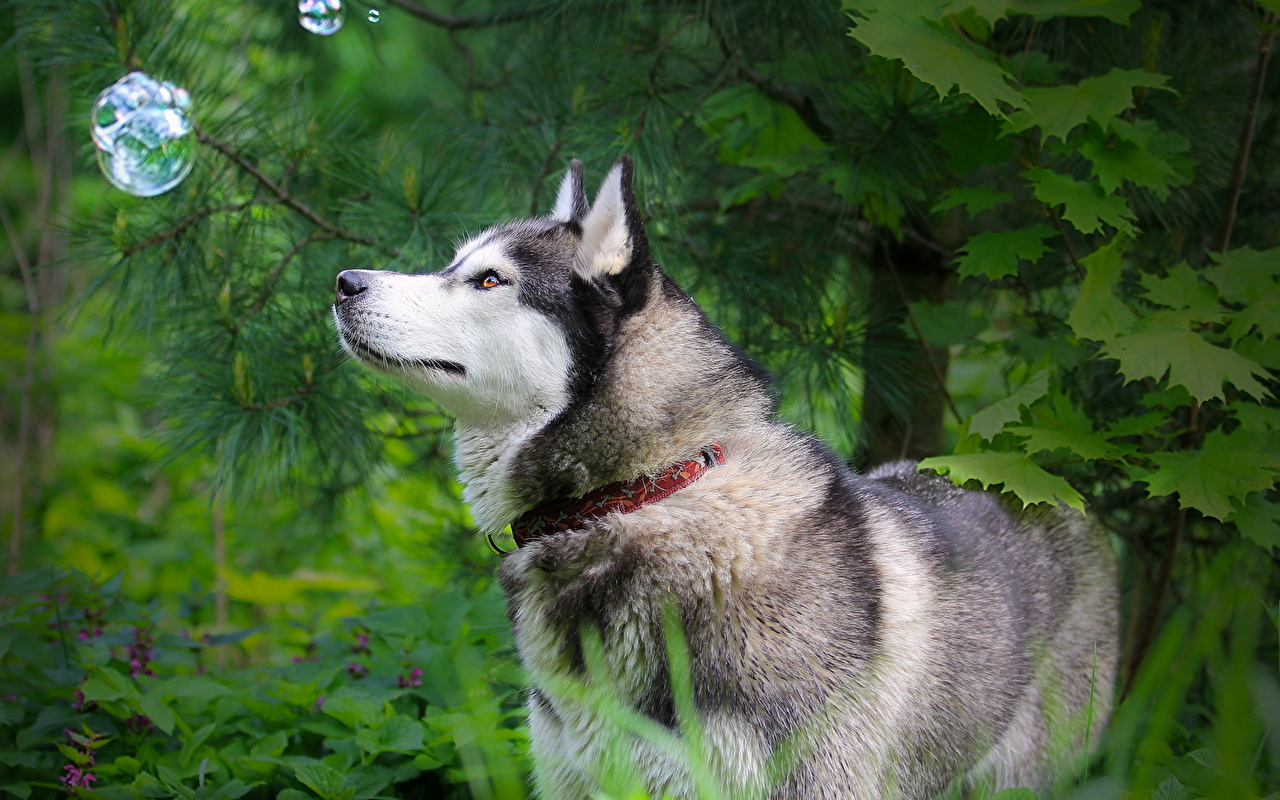husky: (303, 162, 795, 635)
